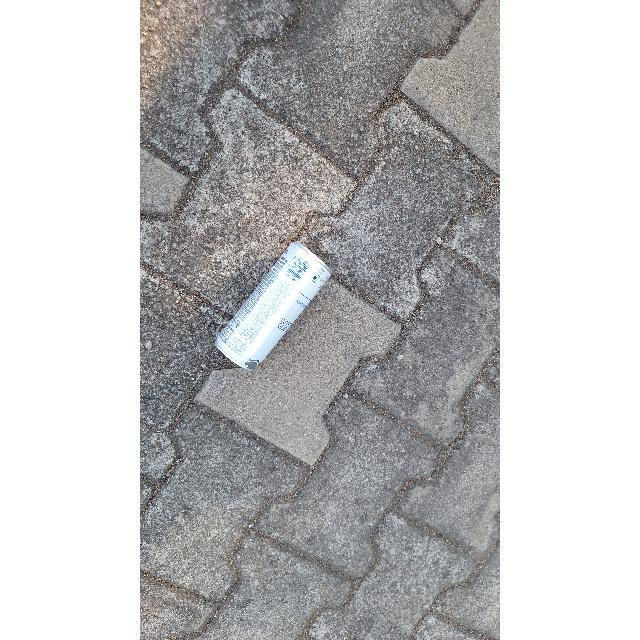Redbull Summer Edition: (205, 235, 335, 373)
